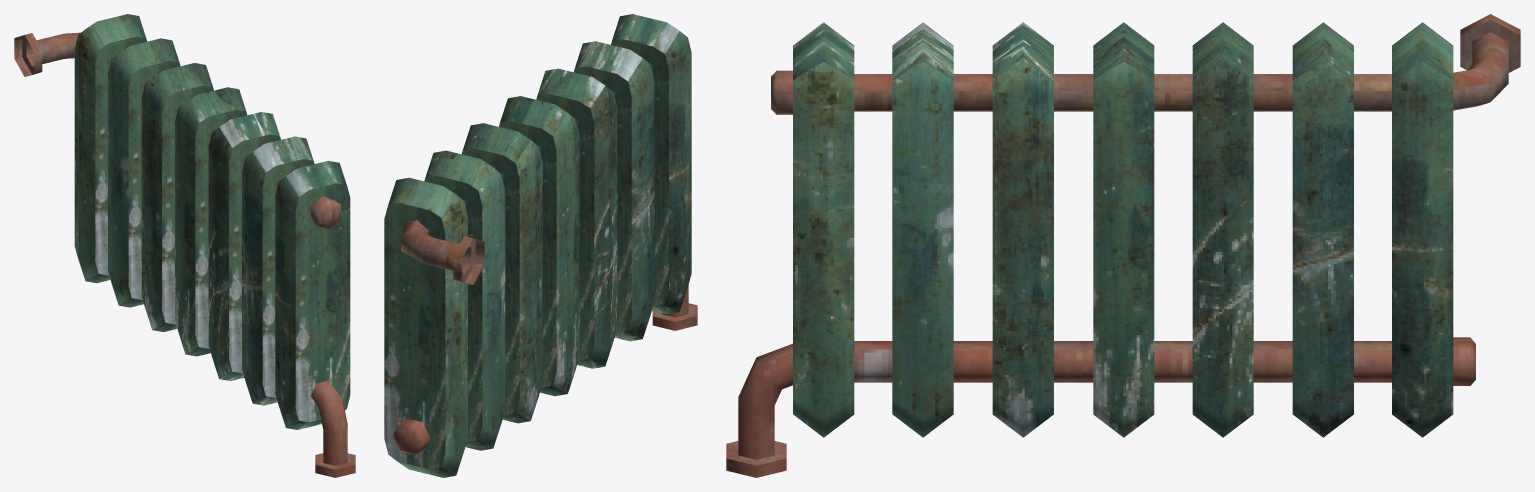
The model's file is _Radiator_1.FBX.
3 renders of one model, left to right at view 1: azimuth 30°, elevation 25°; view 2: azimuth 150°, elevation 25°; view 3: azimuth 270°, elevation 25°, orthographic. The views are drawn at different scales.
Parts seen in each view (by area): view 1: _Radiator_1; view 2: _Radiator_1; view 3: _Radiator_1.
Boxes of the visible parts, left/top/right/bottom form: _Radiator_1: left=14, top=14, right=355, bottom=477; _Radiator_1: left=384, top=14, right=697, bottom=477; _Radiator_1: left=726, top=14, right=1520, bottom=477.
Bounding box in the file's own units: 21.55 × 61.78 × 104.
Materials: 2 (2 with a texture image).
